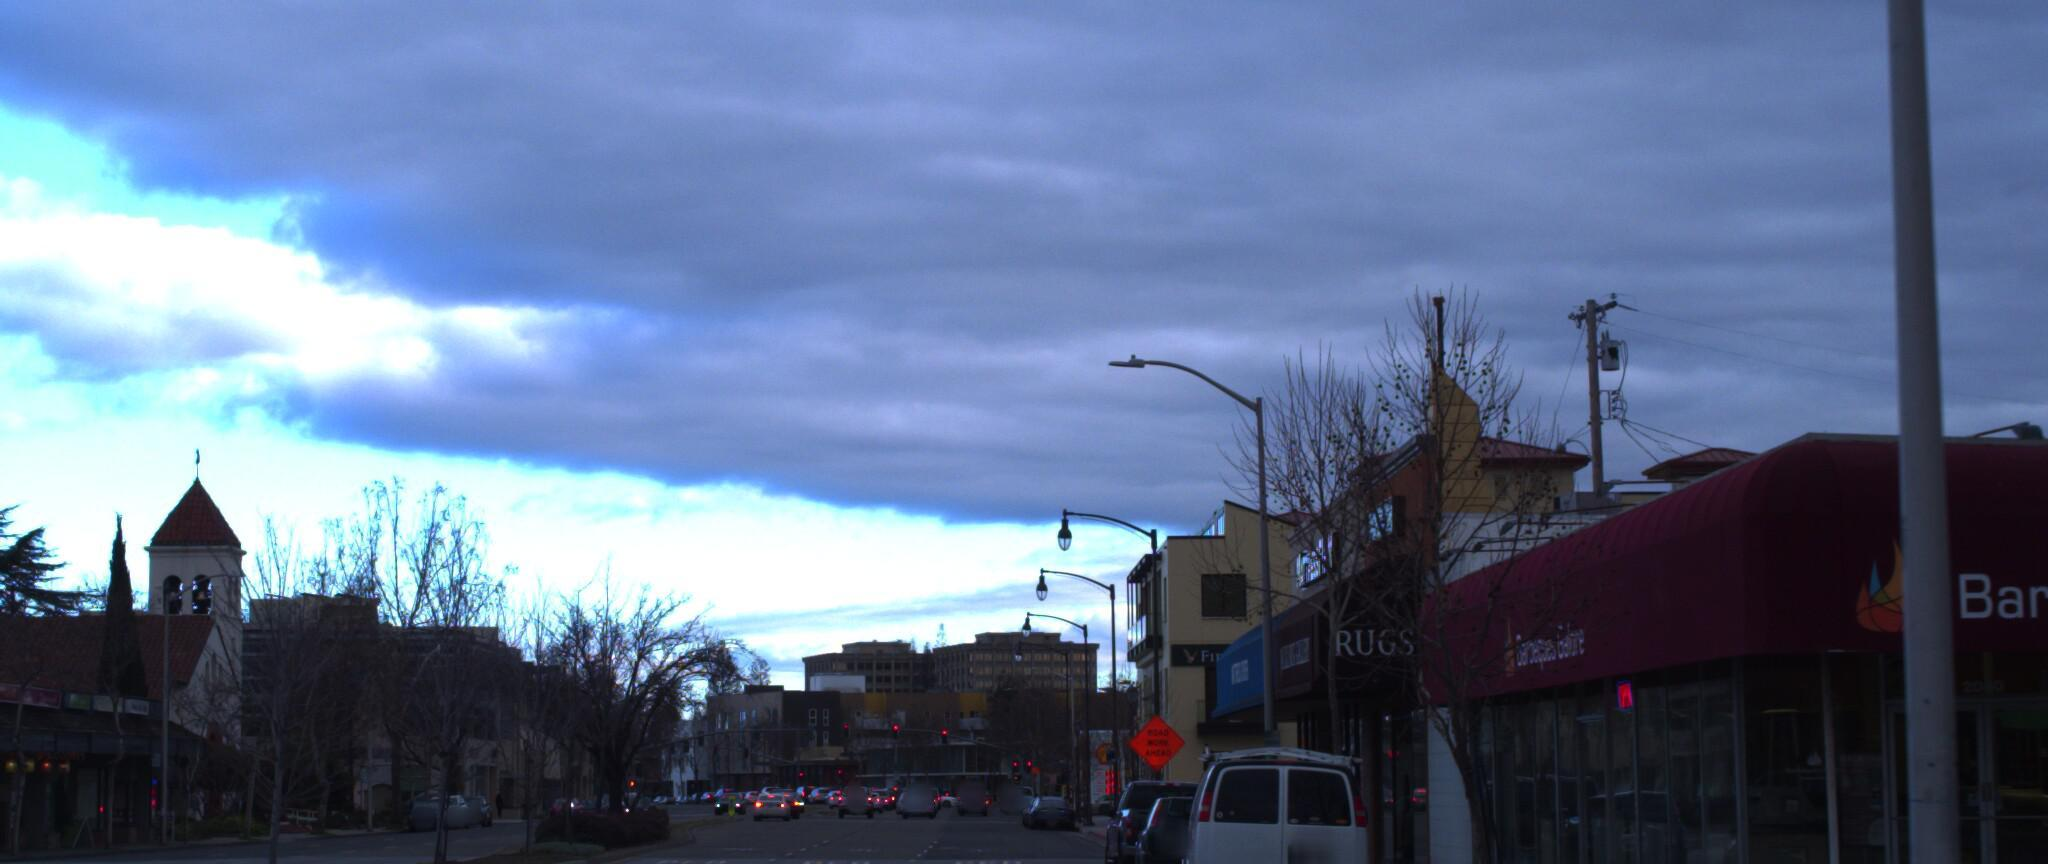car: (1165, 739, 1377, 864), (1122, 784, 1238, 864), (0, 846, 270, 864)
truck: (1087, 769, 1230, 864)
